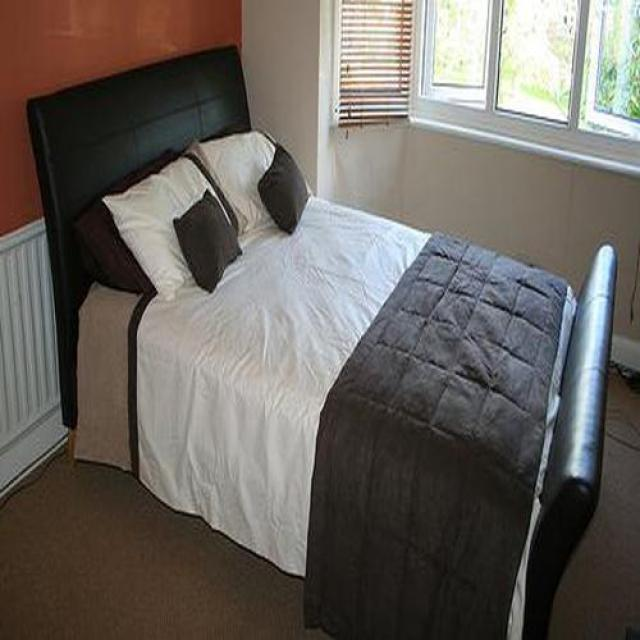bed: (27, 47, 614, 640)
